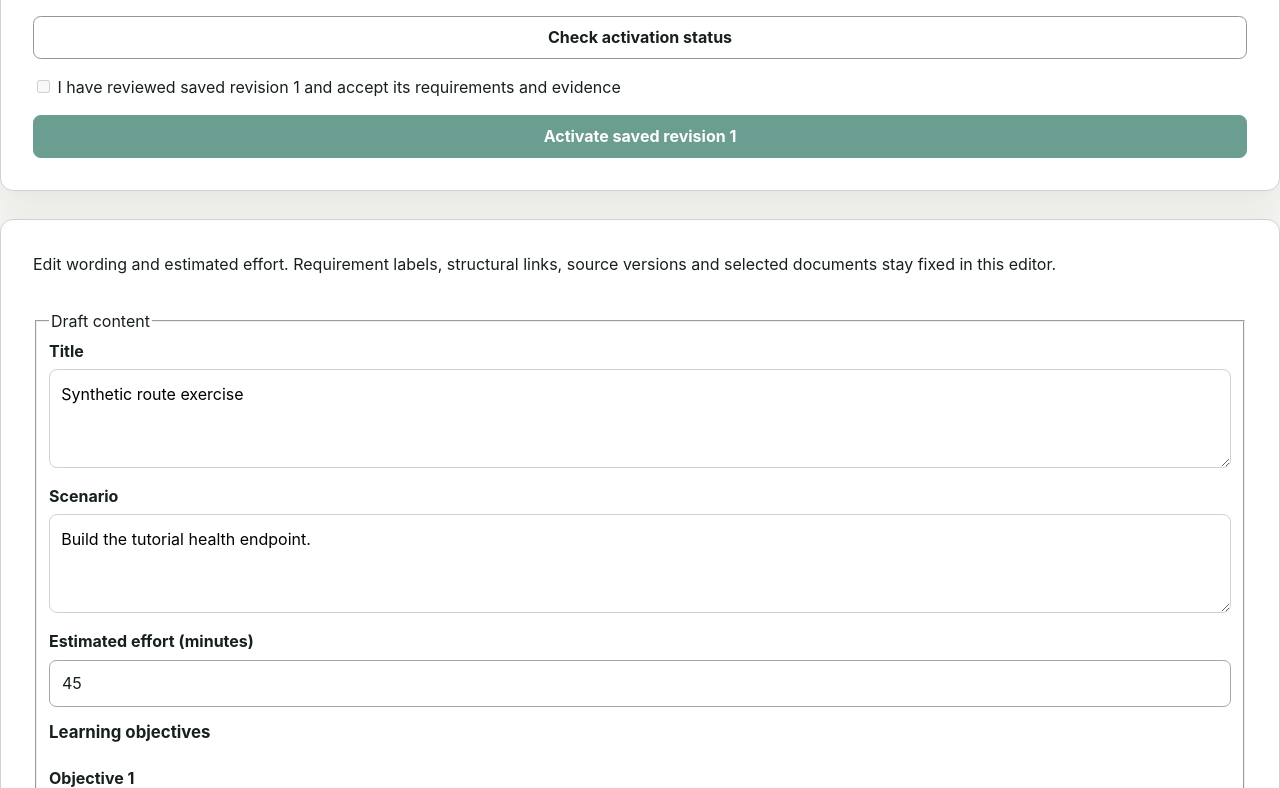
Test case: explicit reviewed assignment activation › does not duplicate an already confirmed current version and permits a new review only after saving
(page scrolled)
Expected: the checkbox labelled "I have reviewed saved revision" is disabled, [37,80,50,92]
Replace the text in the text box labelled "Title" with "Later wording": (640, 419) [49,369,1231,468]
(page scrolled)
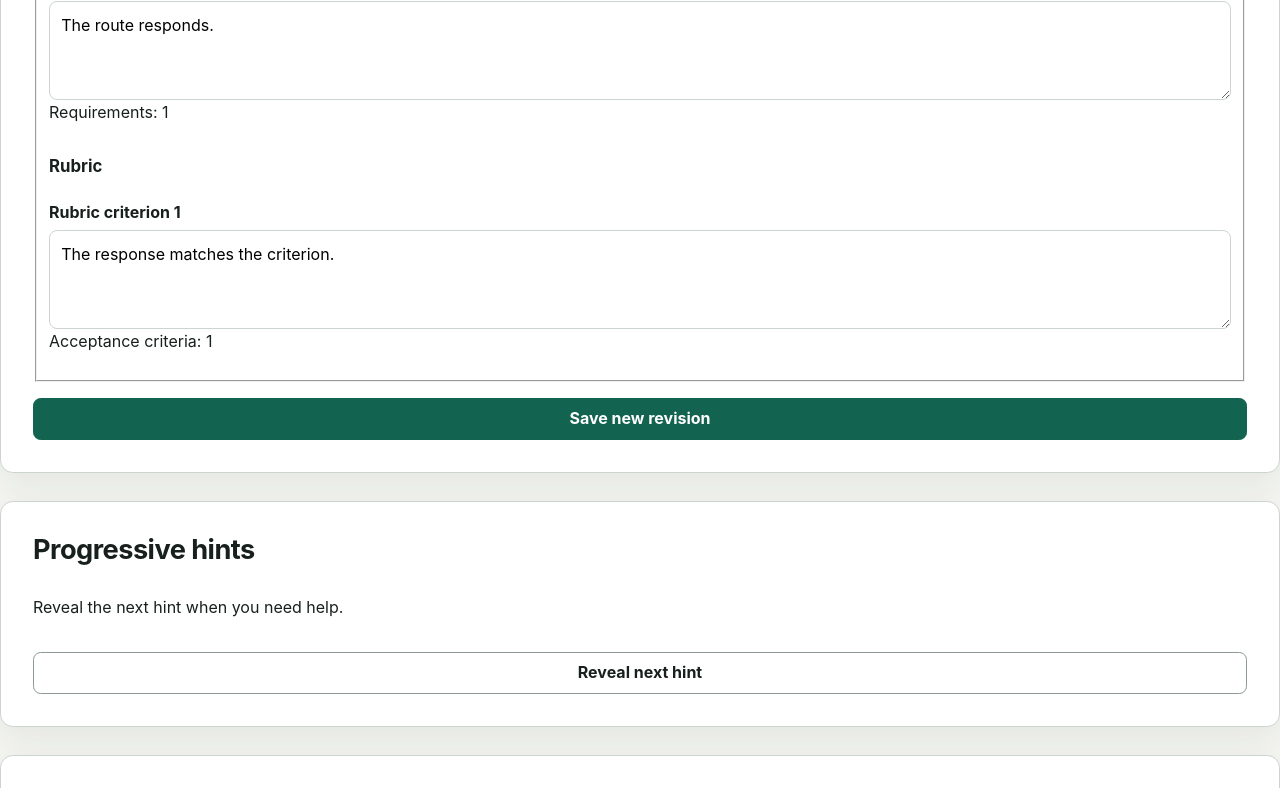
Click the button "Save new revision": (640, 419) [33,398,1247,440]
(page scrolled)
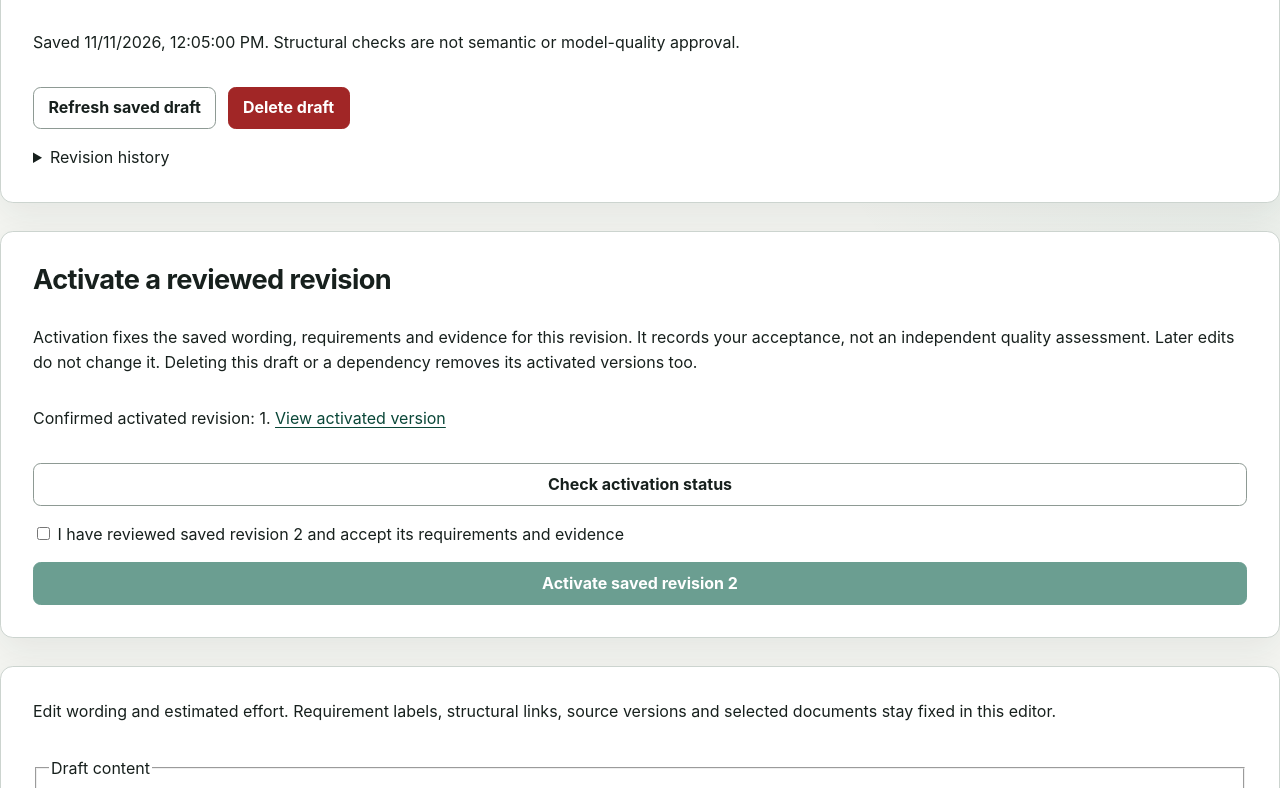
Expected: the checkbox labelled "I have reviewed saved revision" is not checked, [37,526,50,540]
Now the checkbox labelled "I have reviewed saved revision" is enabled, box [37,526,50,540]
